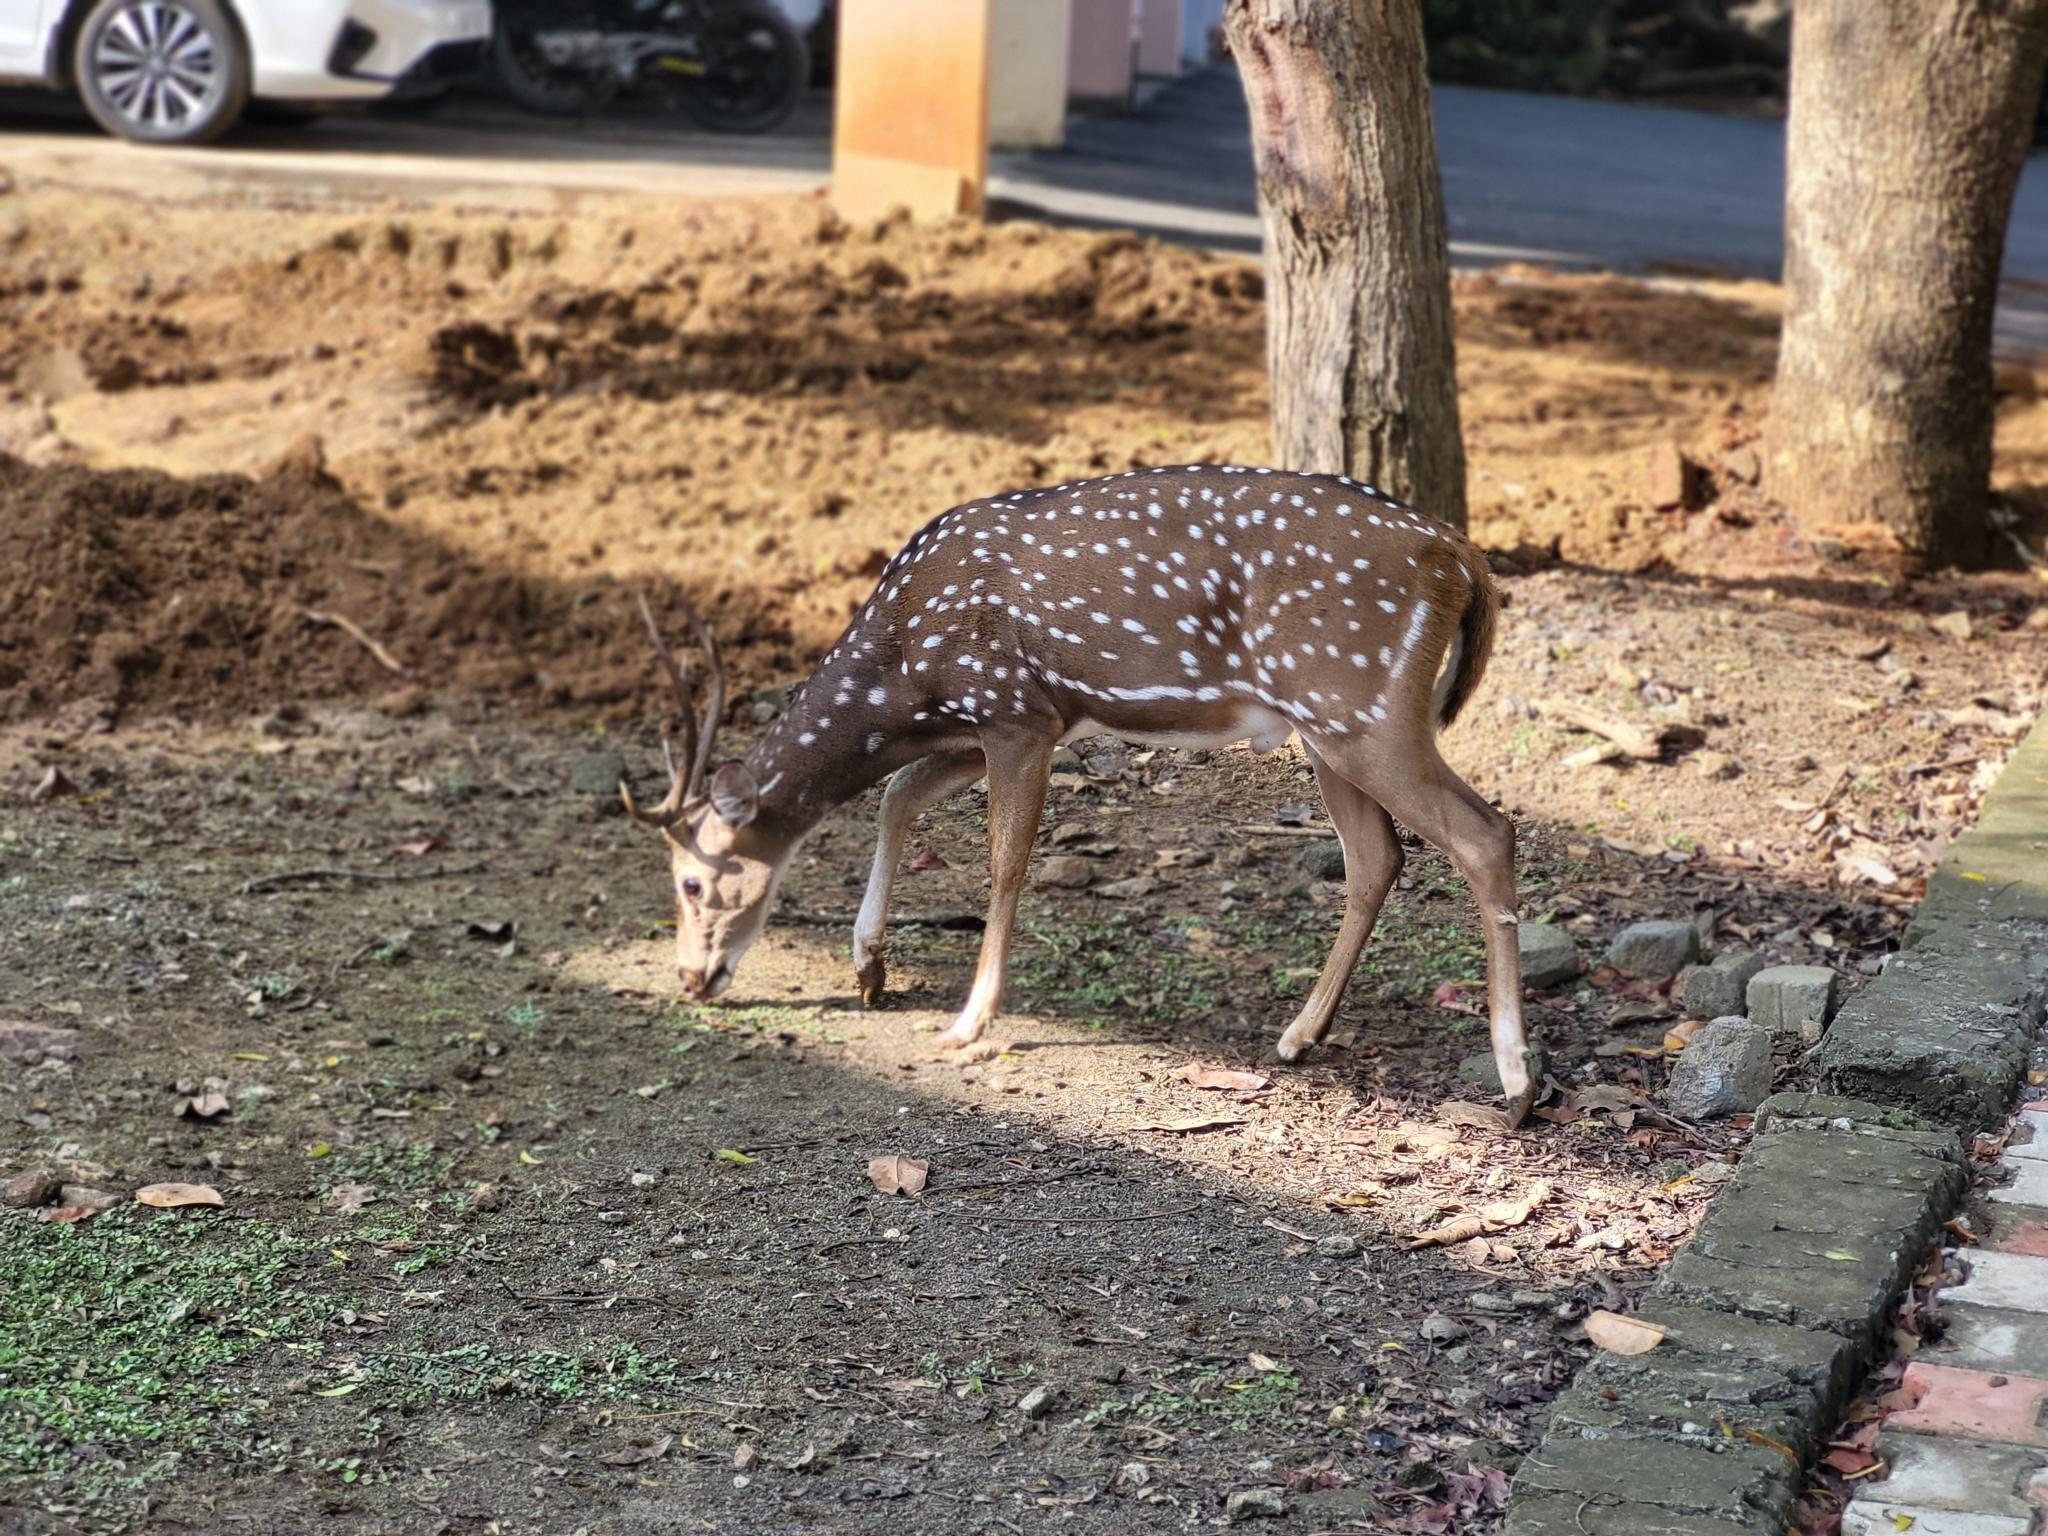Deer: (625, 465, 1533, 1123)
